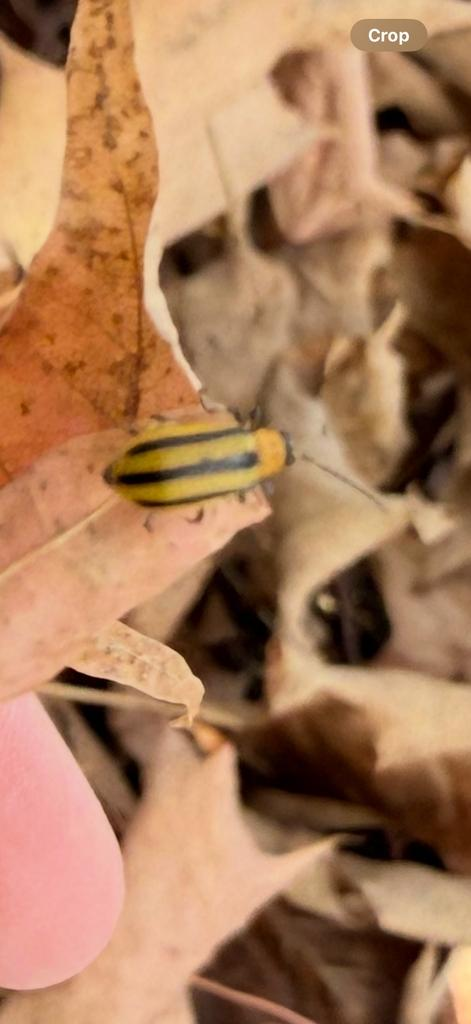potato_beetle: (63, 376, 411, 573)
